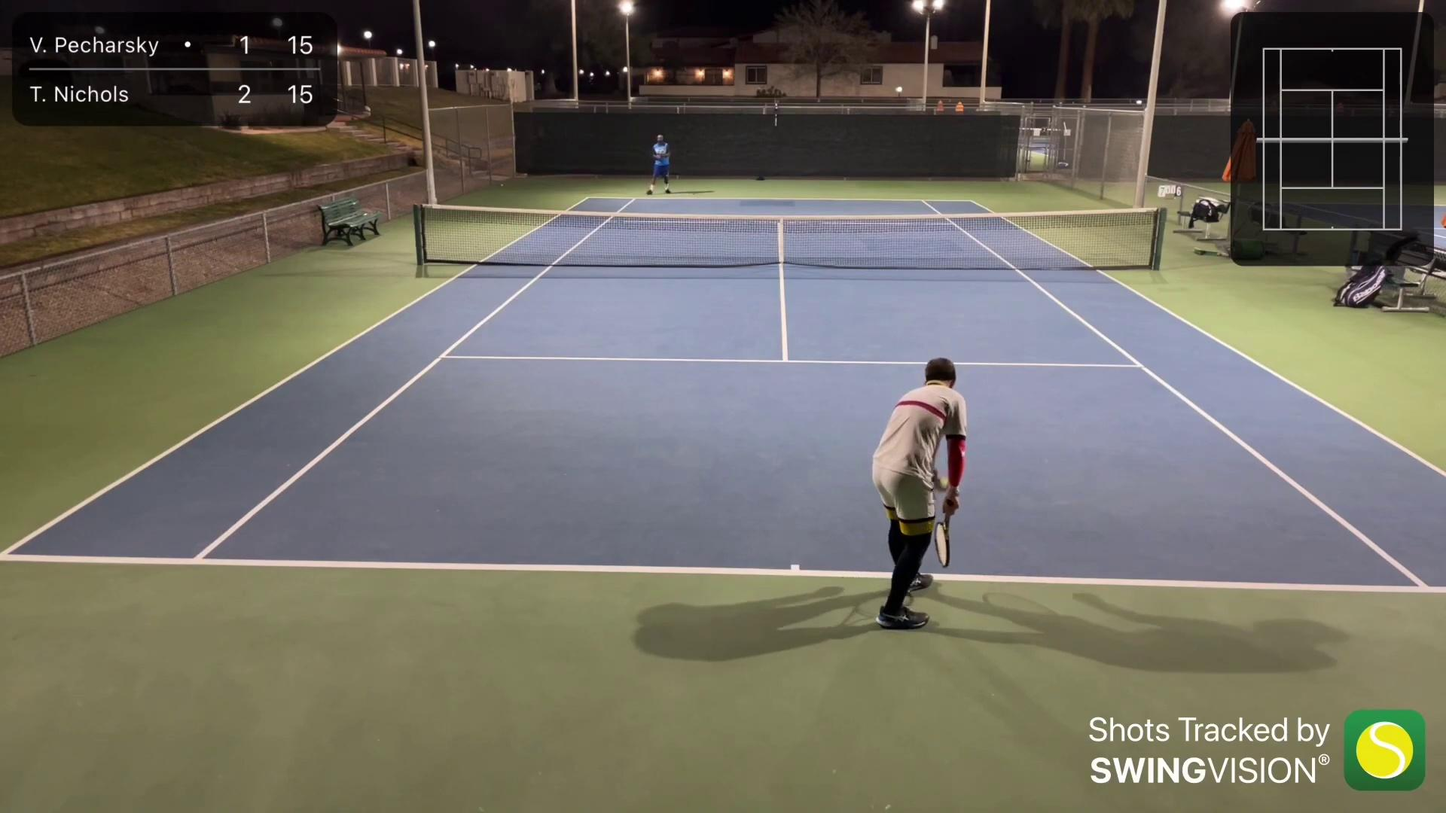ball: (937, 474, 953, 492), (500, 181, 504, 188)
